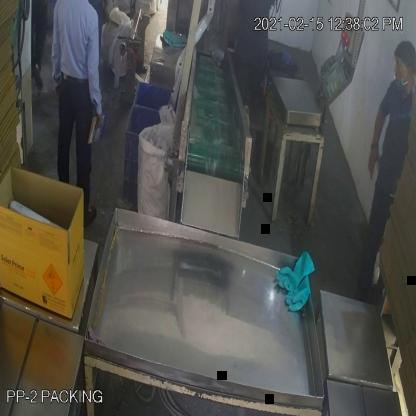no_glove: (364, 90, 392, 185), (86, 15, 104, 132)
